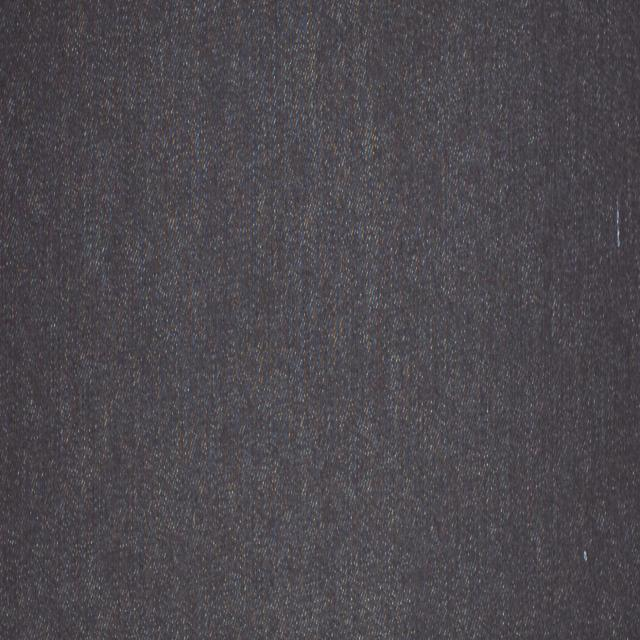Knot: (582, 551, 590, 564)
